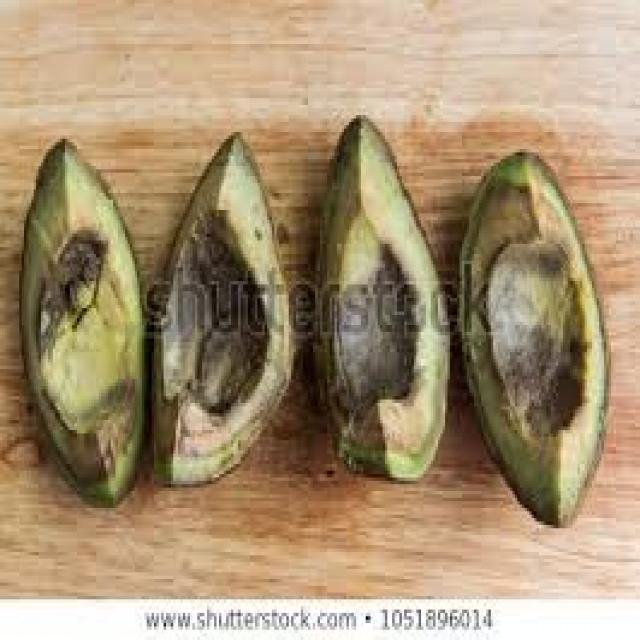organic waste: (454, 149, 608, 525), (144, 129, 289, 484), (310, 112, 445, 481), (14, 136, 147, 504)
